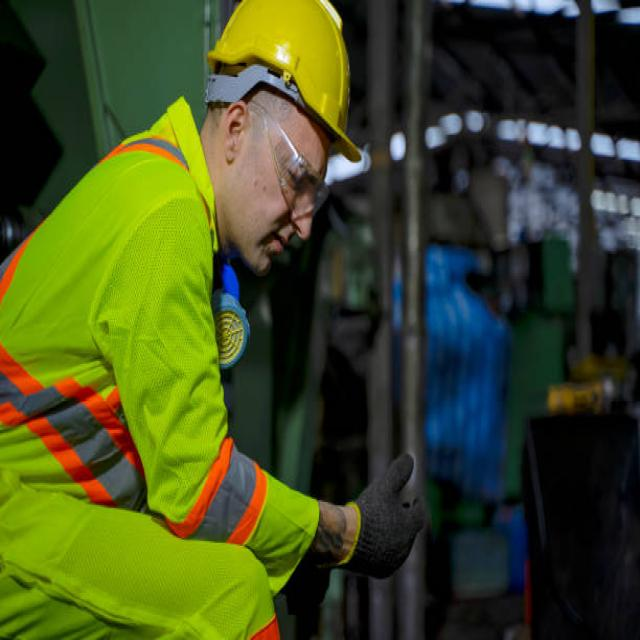Gloves: (334, 450, 430, 582)
helmet: (205, 0, 364, 166)
person: (0, 1, 420, 640)
